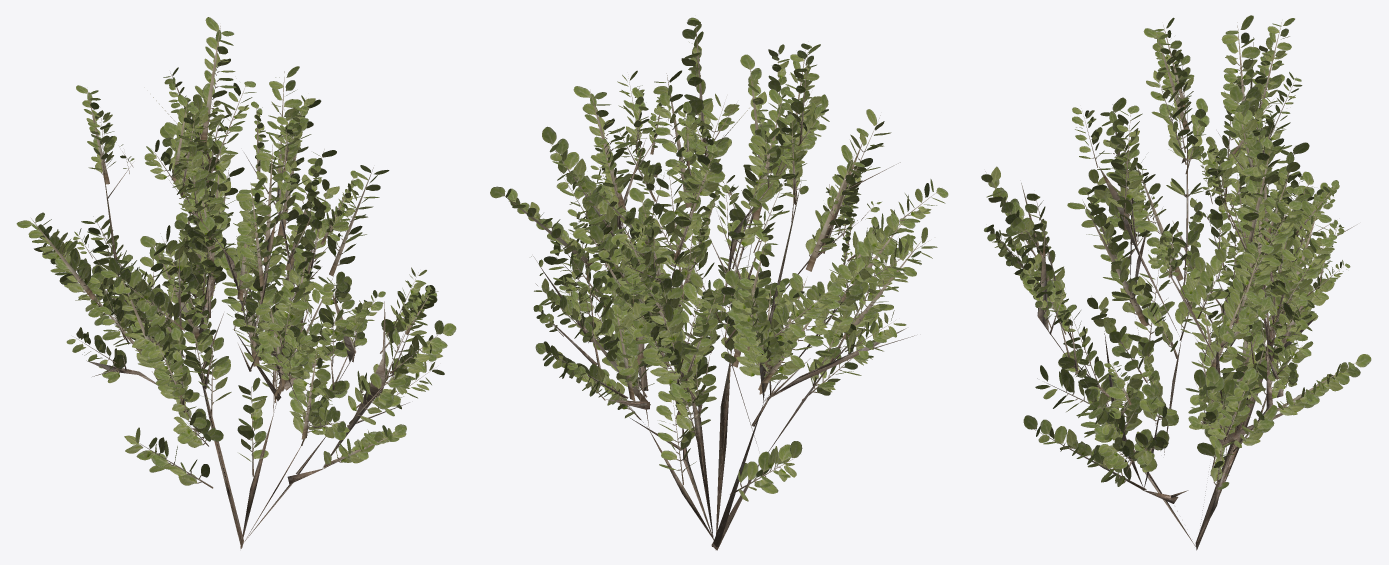
Rendered from searsia_lucida_d.gltf.
3 views of the same model, side by side, from view 1: azimuth 30°, elevation 25°; view 2: azimuth 150°, elevation 25°; view 3: azimuth 270°, elevation 25° (orthographic). The views are drawn at different scales.
Parts seen in each view (by area): view 1: searsia_lucida_d__x; view 2: searsia_lucida_d__x; view 3: searsia_lucida_d__x.
Boxes of the visible parts, x1,y1,x2,y2 form: searsia_lucida_d__x: [16, 17, 456, 548]; searsia_lucida_d__x: [490, 17, 948, 550]; searsia_lucida_d__x: [981, 15, 1371, 550].
Size of the model in its own units: 1.11 by 1.42 by 0.9608.
Materials: 2 (2 with a texture image).
